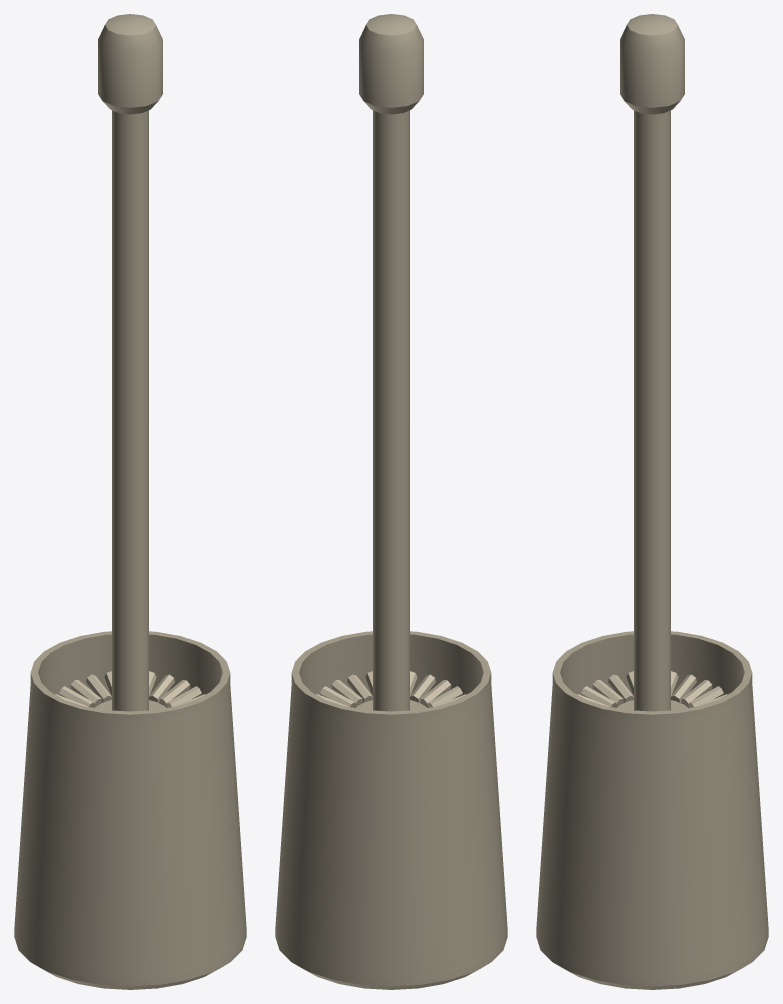
Rendered from toilet-brush-91fb383e4f5f.glb.
3 views of the same model, side by side, from view 1: azimuth 30°, elevation 25°; view 2: azimuth 150°, elevation 25°; view 3: azimuth 270°, elevation 25° (orthographic).
Parts seen in each view (by area): view 1: plastic-light, cloth-cream; view 2: plastic-light, cloth-cream; view 3: plastic-light, cloth-cream.
Boxes of the visible parts, <box> form: plastic-light: <box>14,14,246,989</box>; cloth-cream: <box>55,671,205,707</box>; plastic-light: <box>275,14,507,989</box>; cloth-cream: <box>316,671,466,707</box>; plastic-light: <box>536,14,768,989</box>; cloth-cream: <box>577,671,727,707</box>.
Size of the model in its own units: 0.1 by 0.44 by 0.1.
